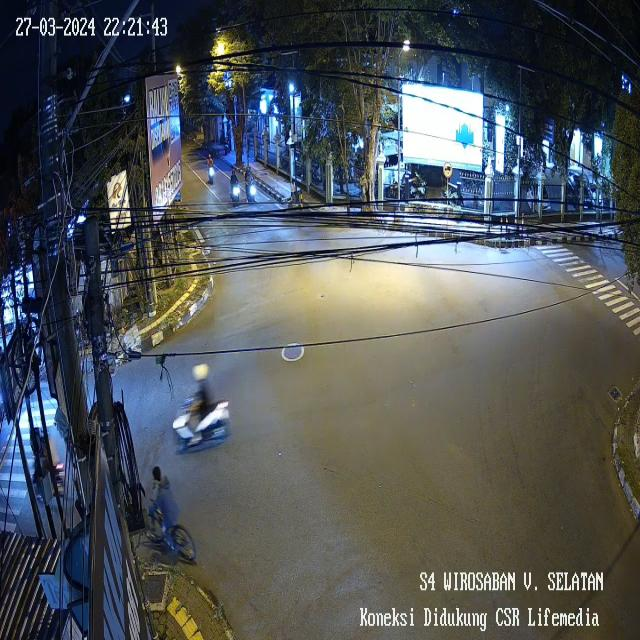motorcycle: (164, 363, 236, 455), (243, 162, 265, 214), (228, 162, 245, 214), (205, 154, 218, 195)
